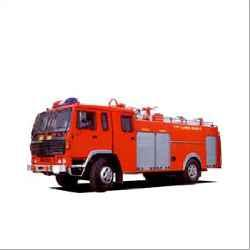ambulance: (33, 99, 225, 187)
